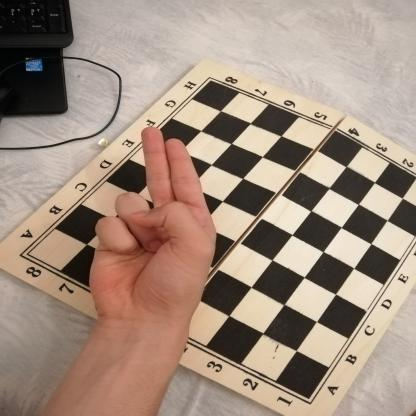TA: (74, 116, 229, 333)
